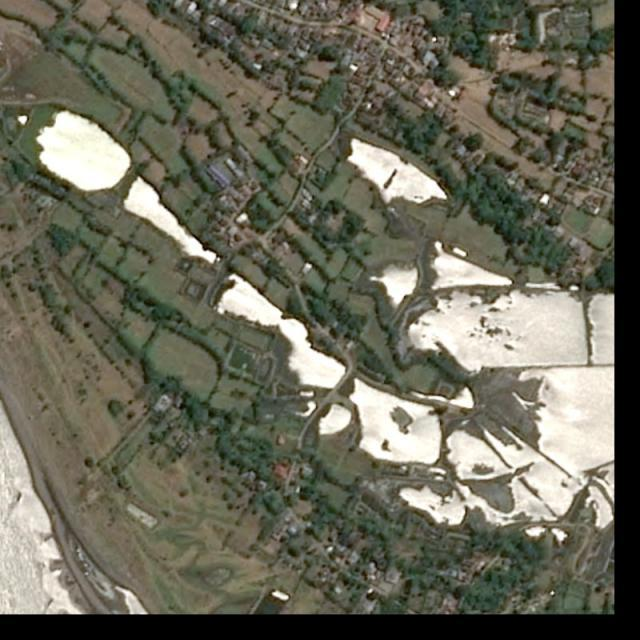ship: (14, 492, 24, 502)
